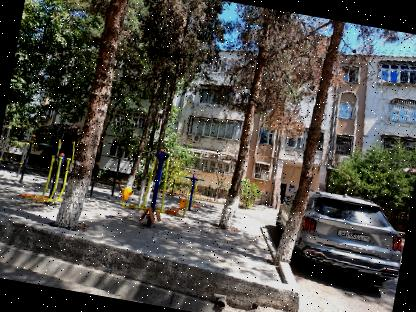car: (260, 174, 412, 295)
tree: (36, 0, 141, 246), (266, 15, 359, 274), (205, 4, 294, 241)
